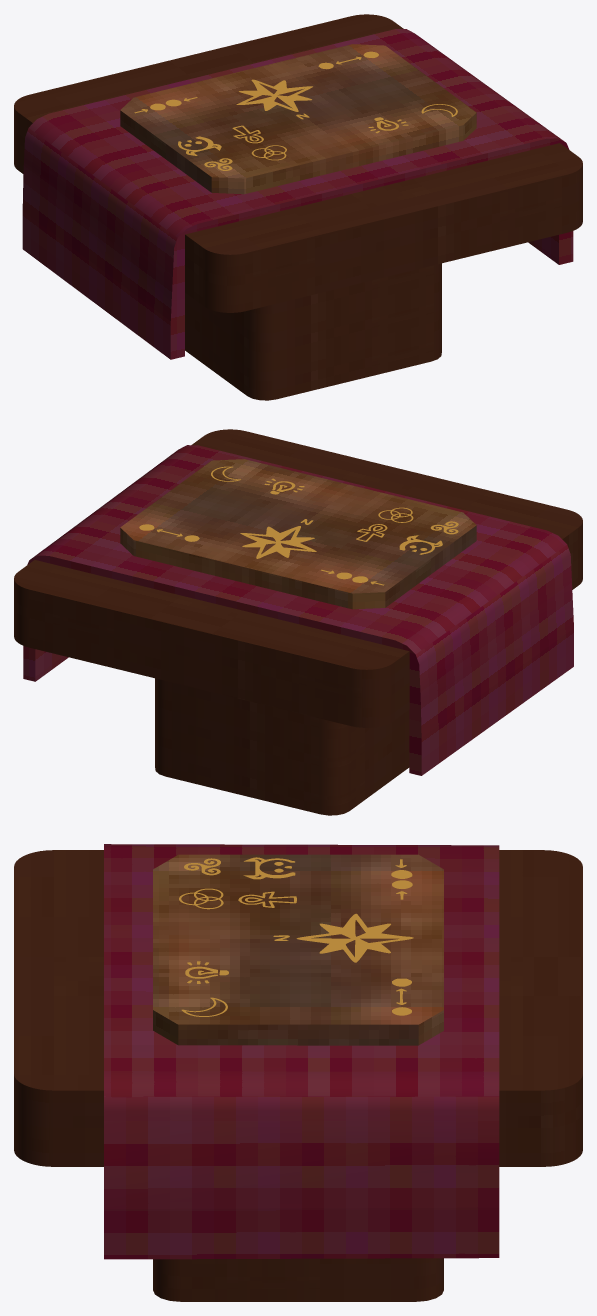
The model's file is ouija_table.glb.
3 views of the same model, one above another, from view 1: azimuth 30°, elevation 25°; view 2: azimuth 150°, elevation 25°; view 3: azimuth 270°, elevation 25° (orthographic). The views are drawn at different scales.
Visible parts, largest first — view 1: table_ouija, tapis_table, ouija_board; view 2: table_ouija, tapis_table, ouija_board; view 3: tapis_table, table_ouija, ouija_board.
Part boxes in pixels (x1=…): table_ouija: x1=14, y1=14, x2=582, y2=400; tapis_table: x1=22, y1=29, x2=573, y2=359; ouija_board: x1=120, y1=44, x2=476, y2=194; table_ouija: x1=14, y1=429, x2=582, y2=815; tapis_table: x1=23, y1=445, x2=573, y2=775; ouija_board: x1=120, y1=459, x2=476, y2=609; tapis_table: x1=104, y1=844, x2=499, y2=1259; table_ouija: x1=14, y1=850, x2=582, y2=1301; ouija_board: x1=153, y1=854, x2=443, y2=1045.
Size of the model in its own units: 1.36 by 0.7381 by 1.27.
Materials: 8 (8 with a texture image).
